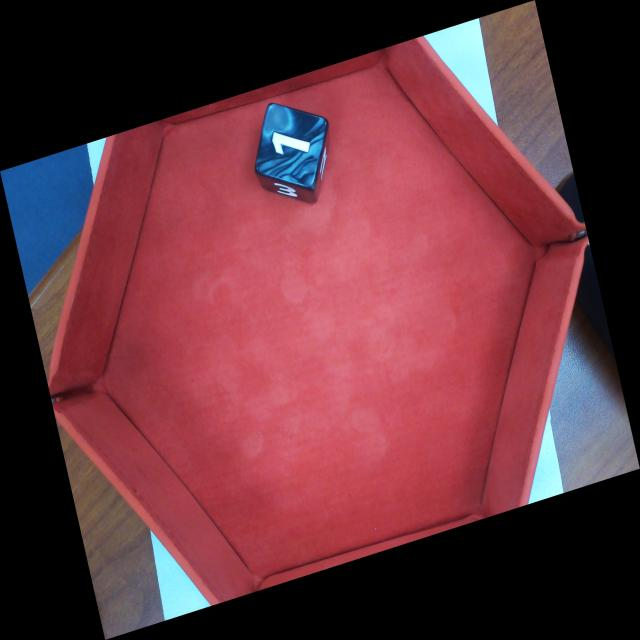dice: (252, 100, 330, 193)
